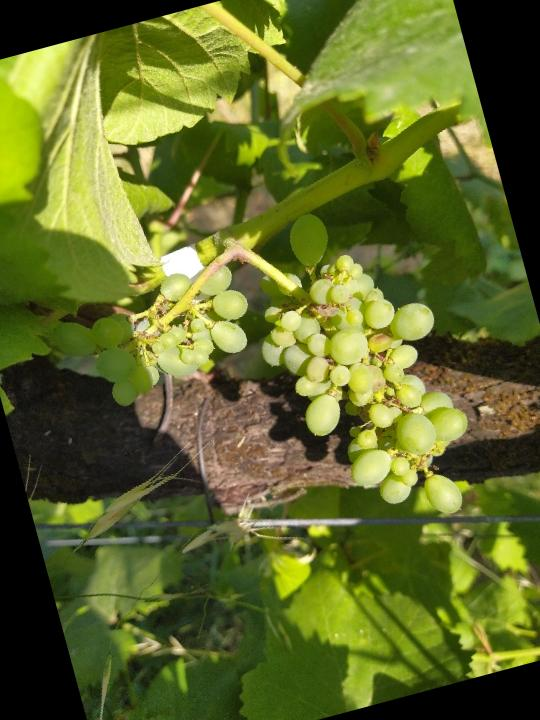grape: (35, 182, 499, 613)
